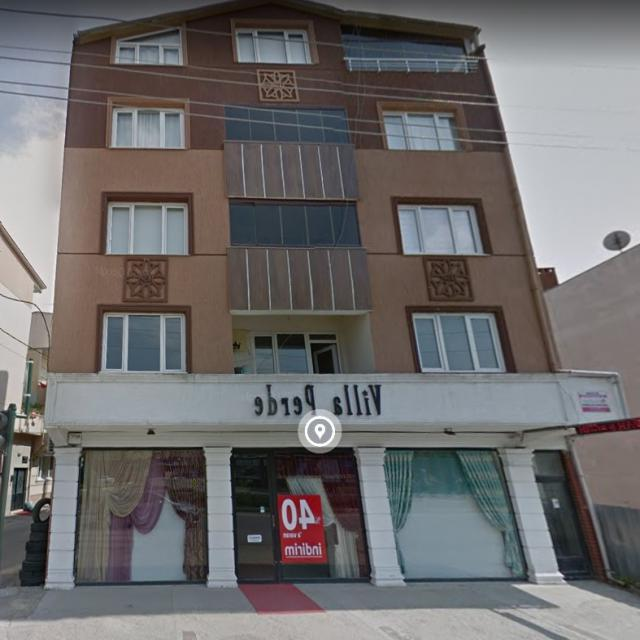Building: (44, 0, 632, 585)
